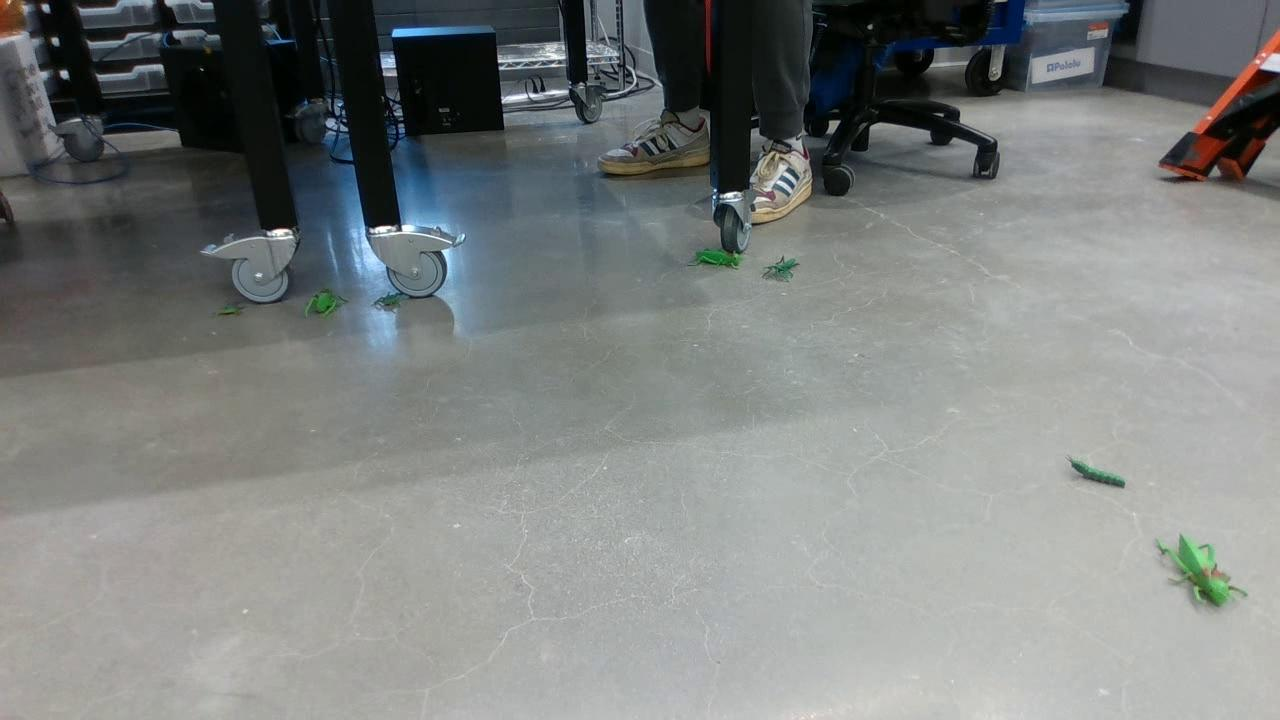grasshopper: (1149, 533, 1252, 618), (688, 249, 744, 274), (303, 285, 341, 320)
